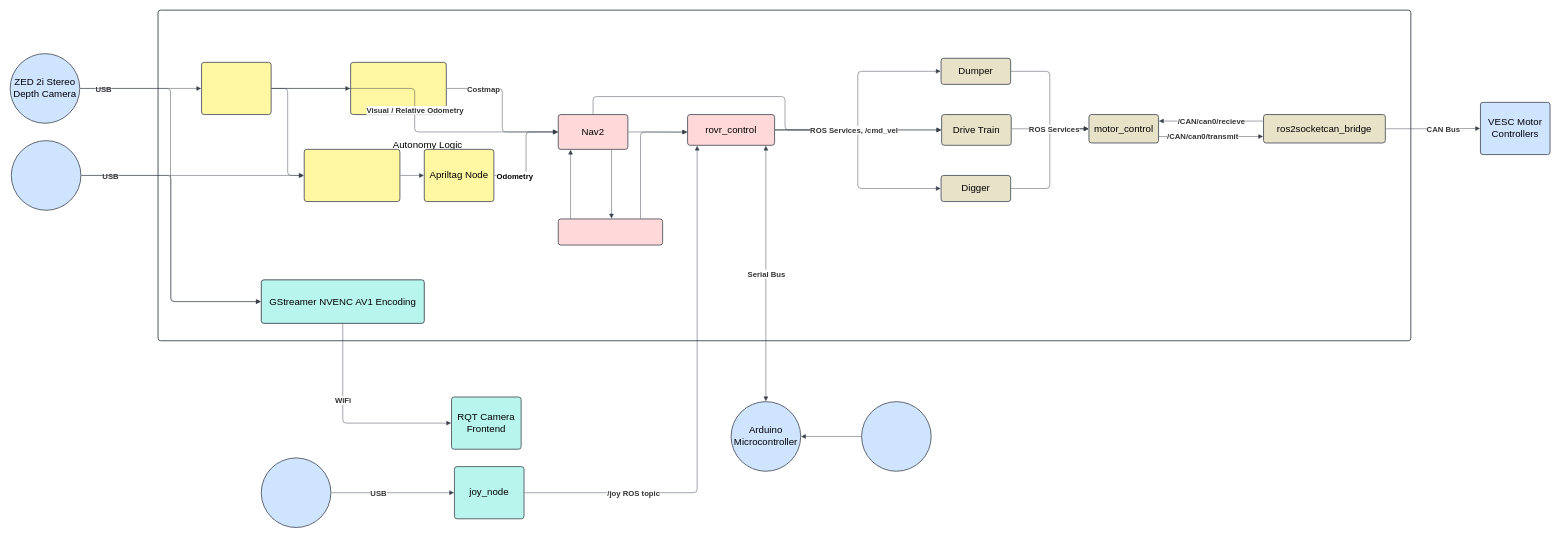
Some shapes in this 1561 by 538 pixel diagram are drawn without their labels. The centre of each missing label's shape, as x and y in pixels:
"Groot Decision Tree" goes at pixel 610 231.
"isaac_ros_apriltag" goes at pixel 352 175.
"isaac_ros_nvblox" goes at pixel 398 88.
"Limit Switches" goes at pixel 896 436.
"Web Cam(s)" goes at pixel 46 175.
"XBox Controller" goes at pixel 296 492.
"ZED ROS 2 Wrapper" goes at pixel 236 88.
